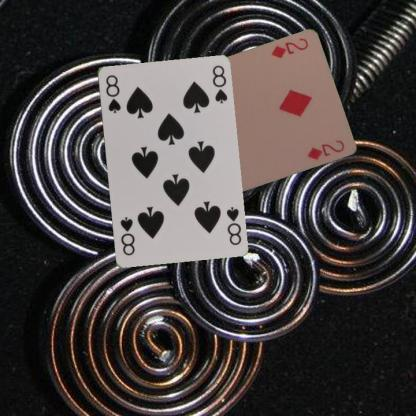2d: (268, 35, 309, 60)
8s: (223, 204, 242, 246), (103, 72, 122, 113)
